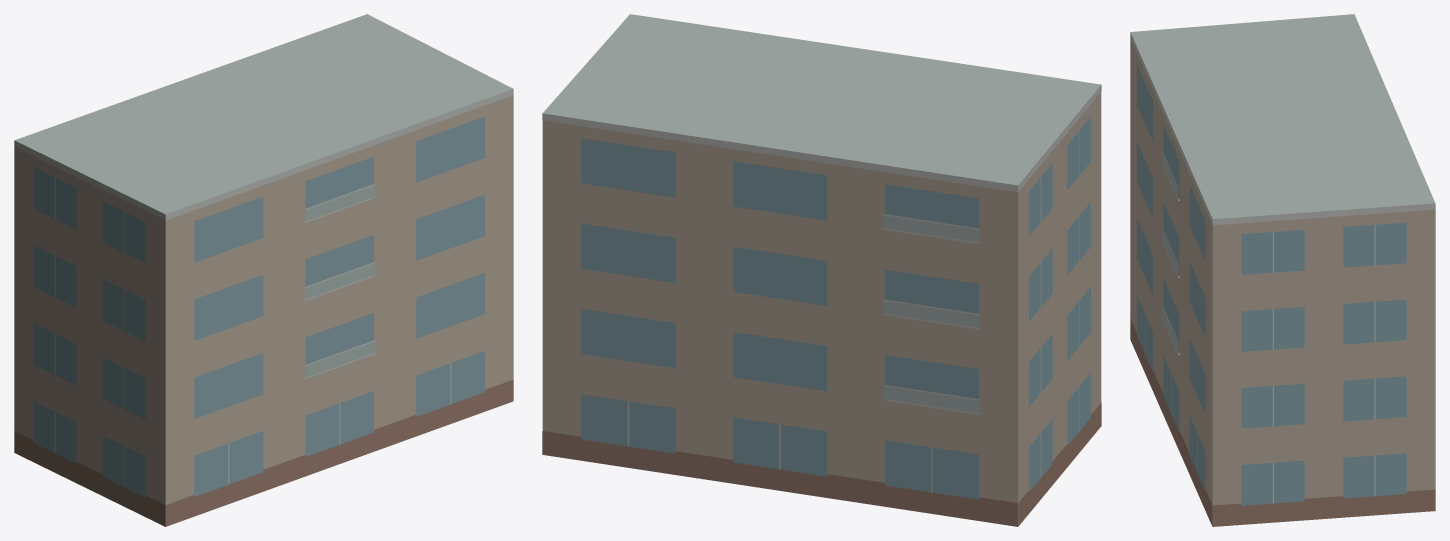
File: survey-upis-32909341.glb
3 renders of one model, left to right at view 1: azimuth 30°, elevation 25°; view 2: azimuth 150°, elevation 25°; view 3: azimuth 270°, elevation 25°, orthographic. The views are drawn at different scales.
Parts seen in each view (by area): view 1: survey-upis-32909341.tmp; view 2: survey-upis-32909341.tmp; view 3: survey-upis-32909341.tmp.
Boxes of the visible parts, x1,y1,x2,y2 form: survey-upis-32909341.tmp: [14, 14, 513, 526]; survey-upis-32909341.tmp: [542, 14, 1101, 526]; survey-upis-32909341.tmp: [1130, 14, 1435, 526].
Bounding box in the file's own units: 17.47 × 12.2 × 10.98.
